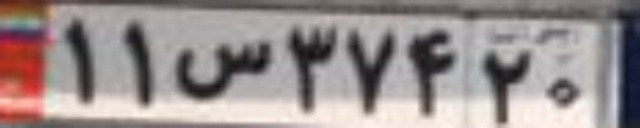0: (542, 76, 582, 108)
1: (120, 20, 152, 106), (65, 19, 95, 105)
2: (482, 46, 529, 123)
3: (289, 23, 337, 111)
4: (407, 29, 457, 114)
7: (344, 24, 400, 114)
sin: (173, 40, 271, 100)
